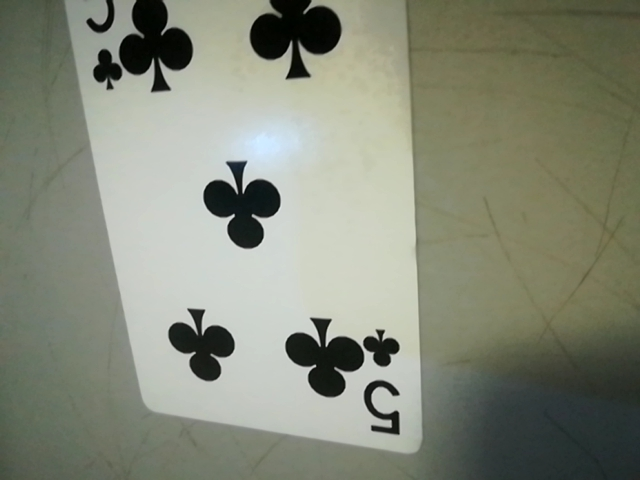mh 5: (363, 321, 404, 434)
